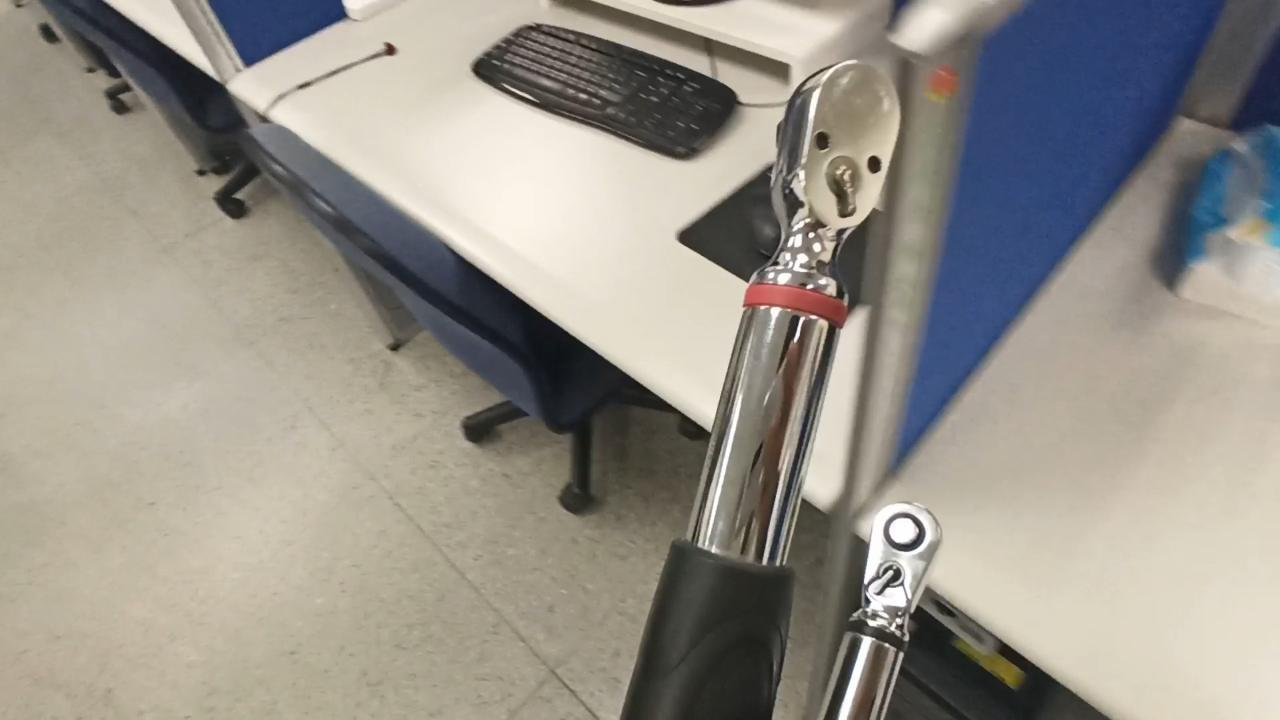Tool: (745, 51, 909, 307), (846, 502, 949, 622)
